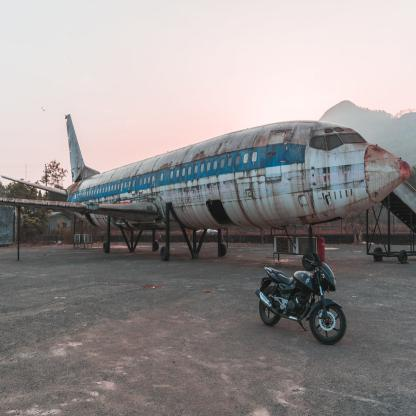CIV_Plane: (3, 113, 412, 260)
